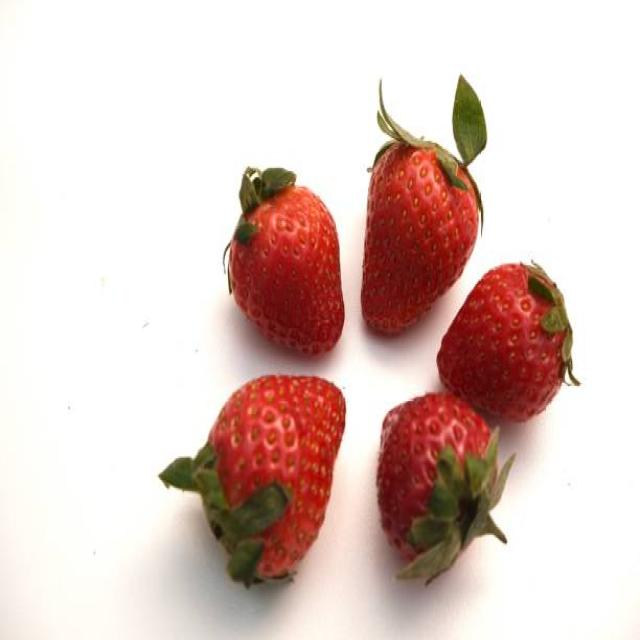Healthy Fruit: (204, 374, 347, 582), (361, 138, 478, 340), (374, 388, 494, 575), (436, 263, 568, 423), (228, 183, 344, 357)
